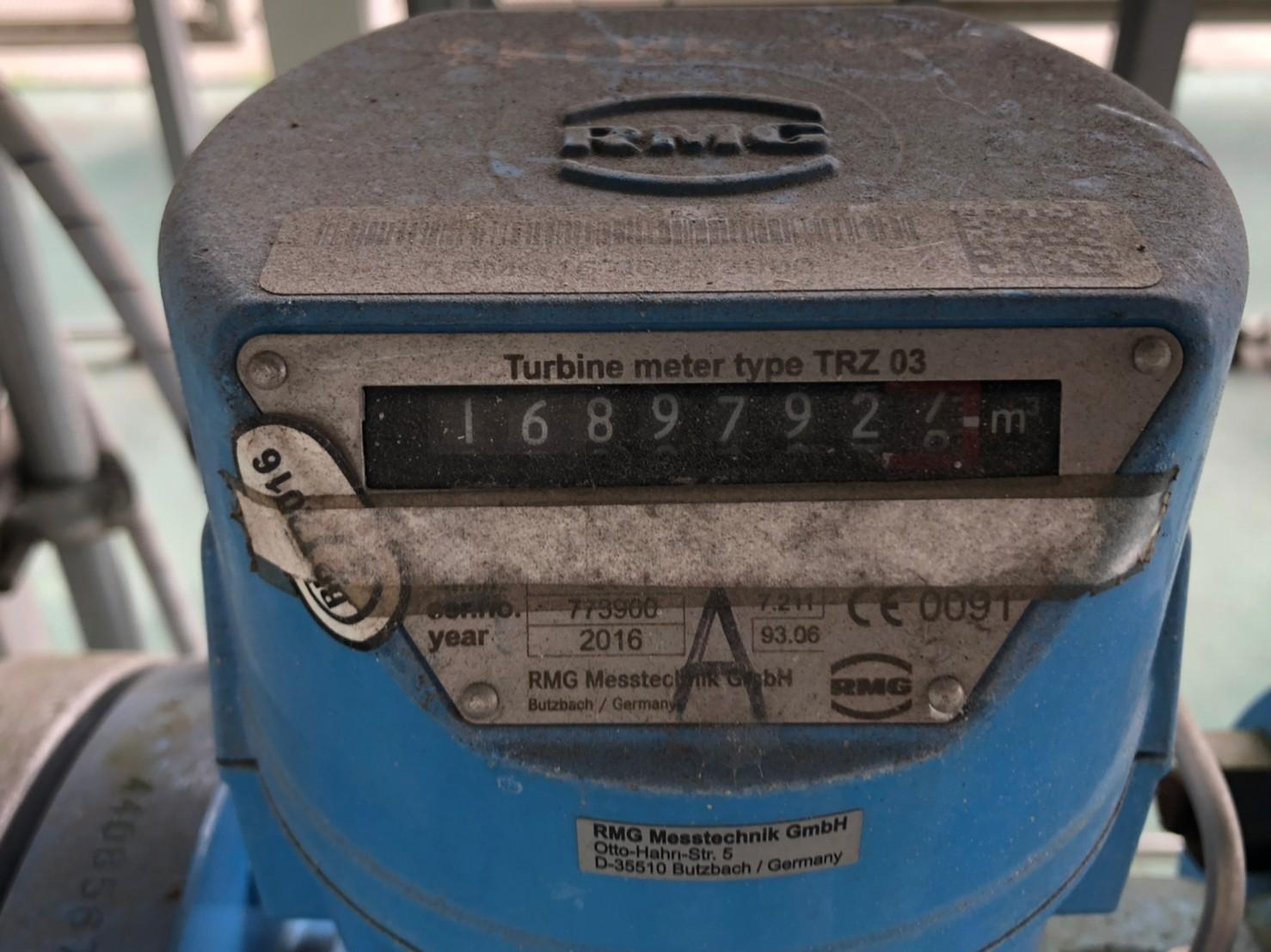analog_dial: (361, 380, 1062, 489)
